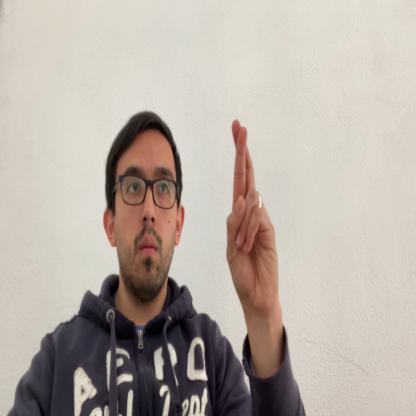R: (224, 116, 279, 310)
